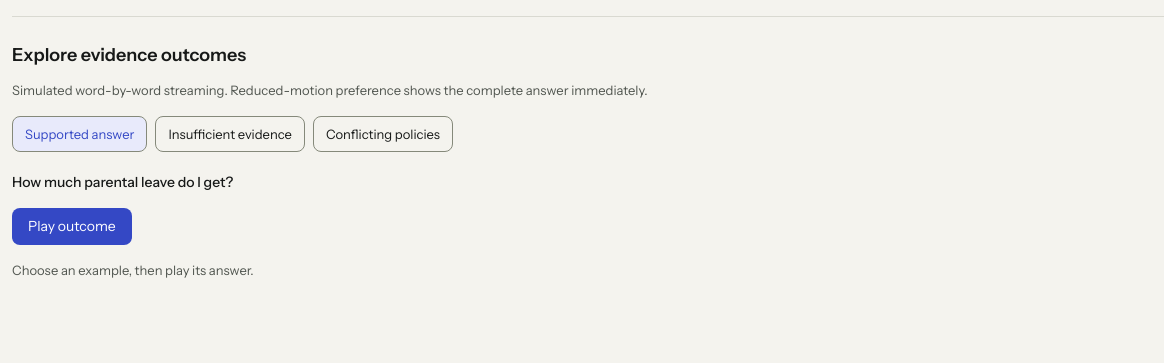
Test case: evidence outcomes › shows an abstention immediately with reduced motion
Click the button "Insufficient evidence".
click(230, 134)  # box [155,116,305,152]
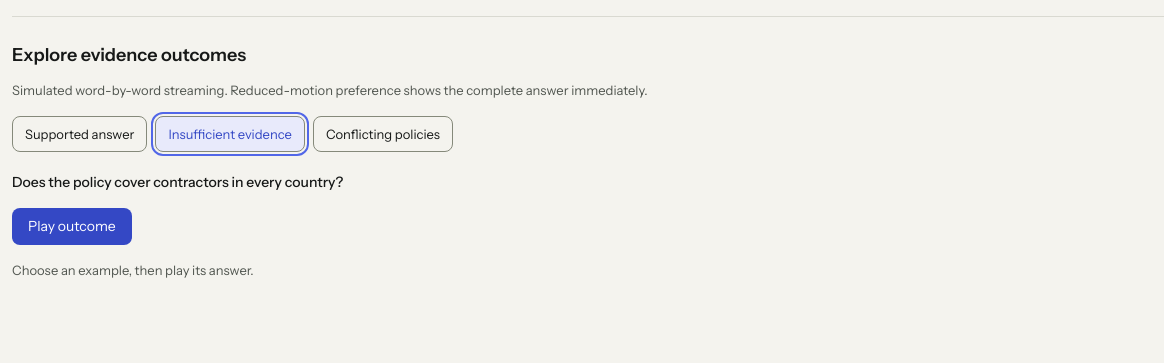
Click the button "Play outcome".
click(72, 227)  # box [12,208,132,245]
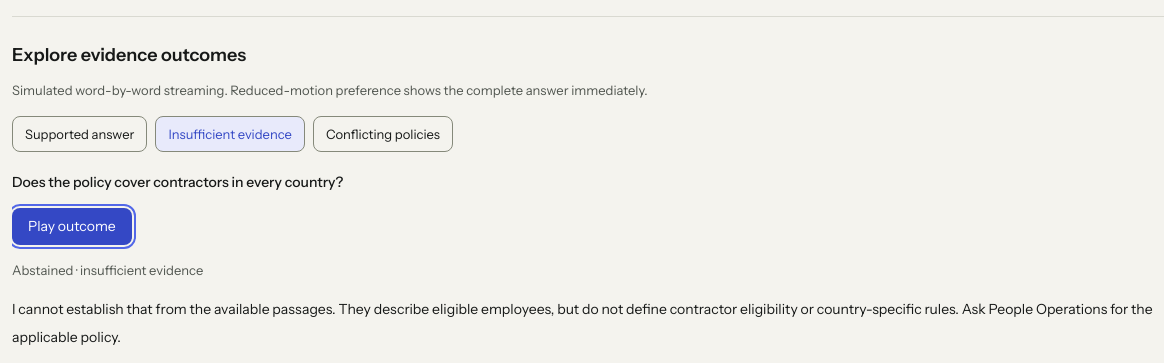
expect the message shows "Abstained": met, box [12,262,203,278]
expect the text named "Sample answer" shows "cannot establish": met, box [12,300,1155,346]
